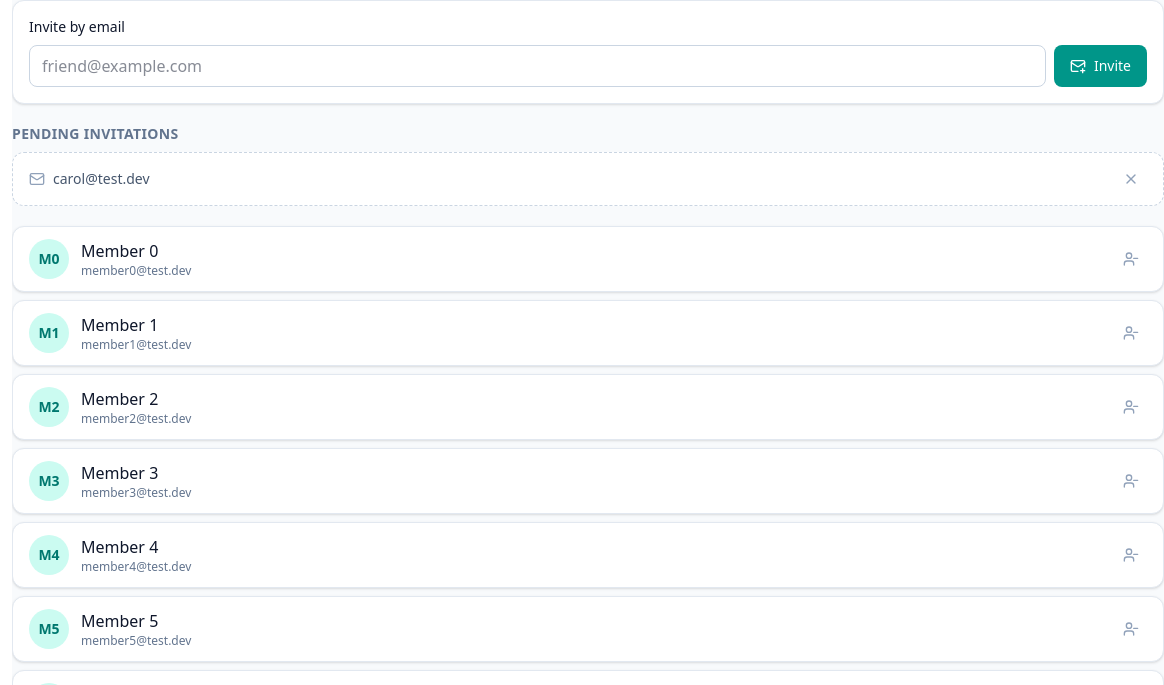
Test: MembersTab seat cap › leaves the last seat to the server when an invitation holds it
Check: the button "Invite" is enabled, box [1054, 45, 1147, 87]
Type "dave@test.dev" into the field with placeholder "friend@example.com" at (537, 66), box [29, 45, 1046, 87]
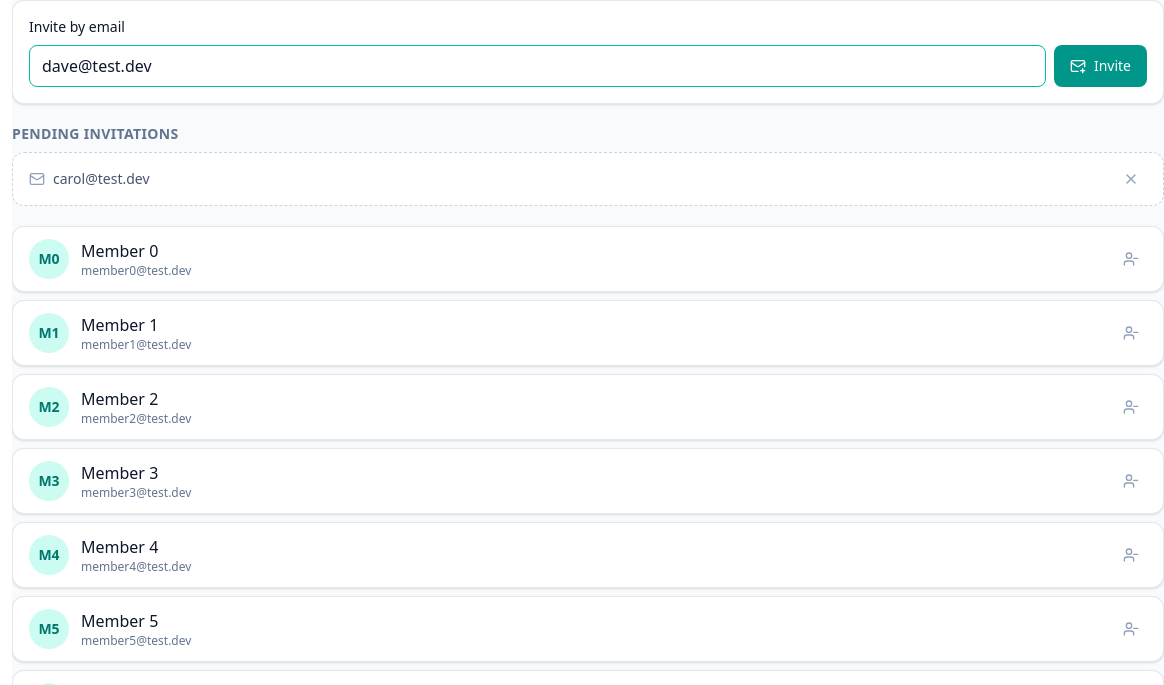
Click the button "Invite" at (1100, 66), box [1054, 45, 1147, 87]
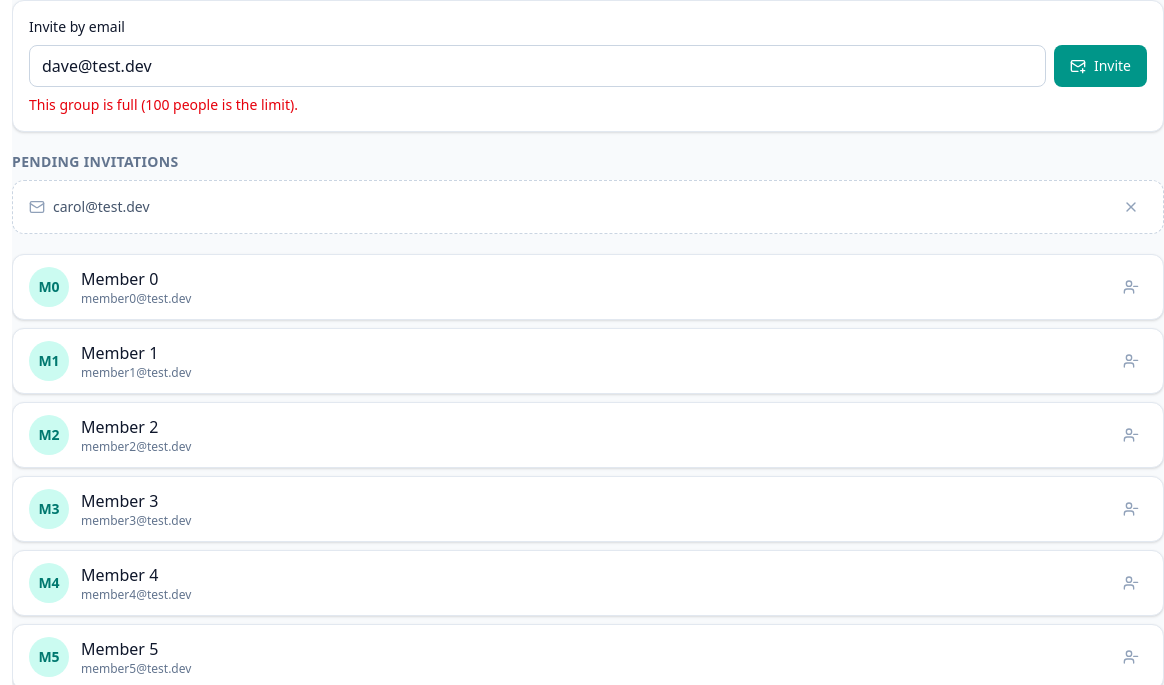
Check: the text "This group is full (100 people is the limit)." is shown, box [29, 95, 298, 114]
